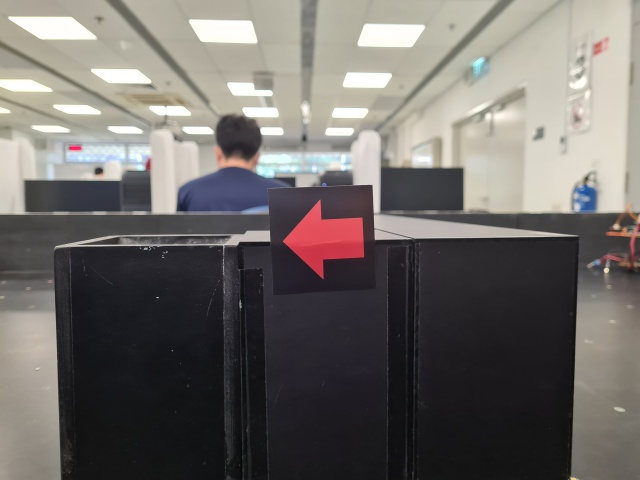left_arrow: (267, 184, 378, 294)
